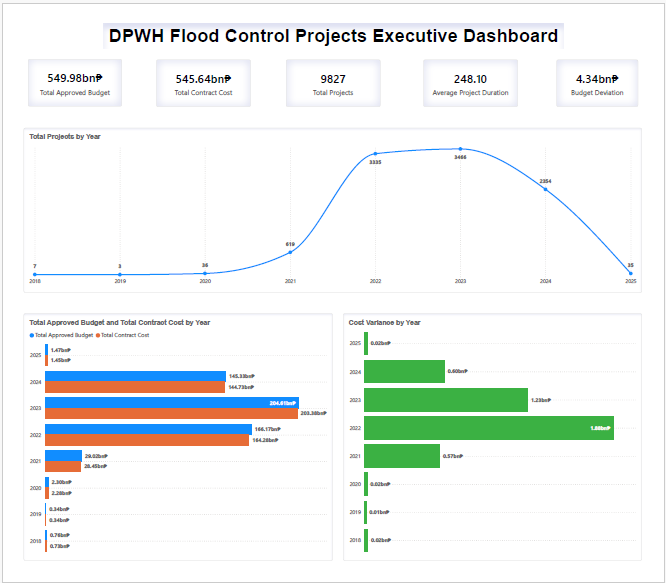

This screenshot's page, from the dashboard's own definition file:
{"tool":"powerbi","page":{"name":"Executive Summary","canvas":[1490,1300],"ordinal":0},"visuals":[{"type":"card","fields":{"Values":["fact_project.Total Approved Budget"]},"box":[34,103.8,218.9,110],"z":0},{"type":"card","fields":{"Values":["fact_project.Total Contract Cost"]},"box":[332.5,105,220,110],"z":1000},{"type":"card","fields":{"Values":["Calculations.Total Projects"]},"box":[635,105,220,110],"z":2000},{"type":"textbox","box":[210,20,1072,60],"z":4000},{"type":"card","fields":{"Values":["Calculations.Average Project Duration"]},"box":[955,105,220,110],"z":5000},{"type":"lineChart","fields":{"Category":["Dim_Date_Funding.Full_Date.Variation.Date Hierarchy.Year","Dim_Date_Funding.Full_Date.Variation.Date Hierarchy.Quarter","Dim_Date_Funding.Full_Date.Variation.Date Hierarchy.Month","Dim_Date_Funding.Full_Date.Variation.Date Hierarchy.Day"],"Y":["Calculations.Total Projects"]},"box":[24,264,1440,384],"z":8000},{"type":"clusteredBarChart","fields":{"Category":["Dim_Date_Funding.Full_Date.Variation.Date Hierarchy.Year"],"Y":["Calculations.Total Approved Budget","Calculations.Total Contract Cost"]},"box":[24,696,720,576],"z":9000},{"type":"card","fields":{"Values":["Calculations.Cost Variance (Actual vs Budget)"]},"box":[1265,105,190,110],"z":11000},{"type":"bookmarkNavigator","box":[1294,268,144,46],"z":19000},{"type":"bookmarkNavigator","box":[1320,260,120,54],"z":20000},{"type":"barChart","fields":{"Category":["Dim_Date_Funding.Year"],"Y":["Calculations.Cost Variance"]},"box":[768,696,696,576],"z":20001}]}

Visuals, with their boxes in screenshot pixels (x1, y1, x2, y2), scaled from the page's 1490x1300 canvas onto the 666x583 screenshot:
card - fact_project.Total Approved Budget: (15,47,113,96)
card - fact_project.Total Contract Cost: (149,47,247,96)
card - Calculations.Total Projects: (284,47,382,96)
textbox: (94,9,573,36)
card - Calculations.Average Project Duration: (427,47,525,96)
lineChart - Dim_Date_Funding.Full_Date.Variation.Date Hierarchy.Year x Dim_Date_Funding.Full_Date.Variation.Date Hierarchy.Quarter: (11,118,654,291)
clusteredBarChart - Dim_Date_Funding.Full_Date.Variation.Date Hierarchy.Year x Calculations.Total Approved Budget: (11,312,333,570)
card - Calculations.Cost Variance (Actual vs Budget): (565,47,650,96)
bookmarkNavigator: (578,120,643,141)
bookmarkNavigator: (590,117,644,141)
barChart - Dim_Date_Funding.Year x Calculations.Cost Variance: (343,312,654,570)
